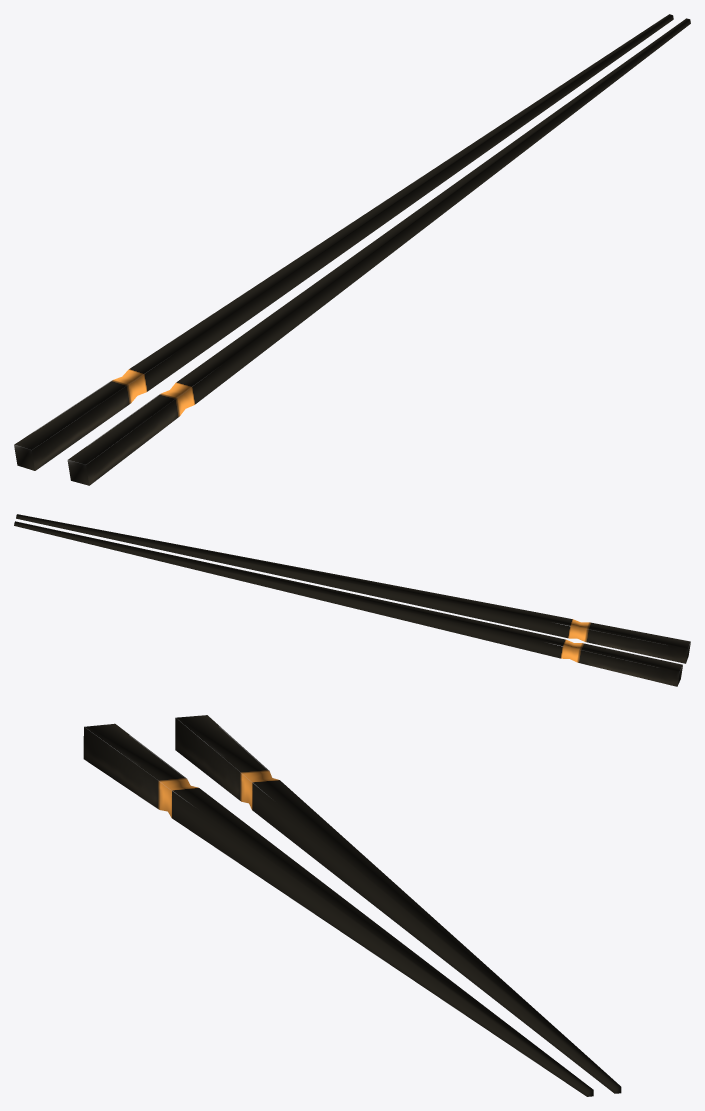
Rendered from chopsticks.obj.
3 renders of one model, top to bottom at view 1: azimuth 30°, elevation 25°; view 2: azimuth 150°, elevation 25°; view 3: azimuth 270°, elevation 25°, orthographic. The views are drawn at different scales.
Parts seen in each view (by area): view 1: dynamic; view 2: dynamic; view 3: dynamic.
Part boxes in pixels (x1,y1,x2,y2): dynamic: [14, 14, 690, 485]; dynamic: [14, 514, 690, 686]; dynamic: [83, 715, 621, 1096].
Bounding box in the file's own units: 9580 × 1682 × 3925.
1 material, 1 textured.
